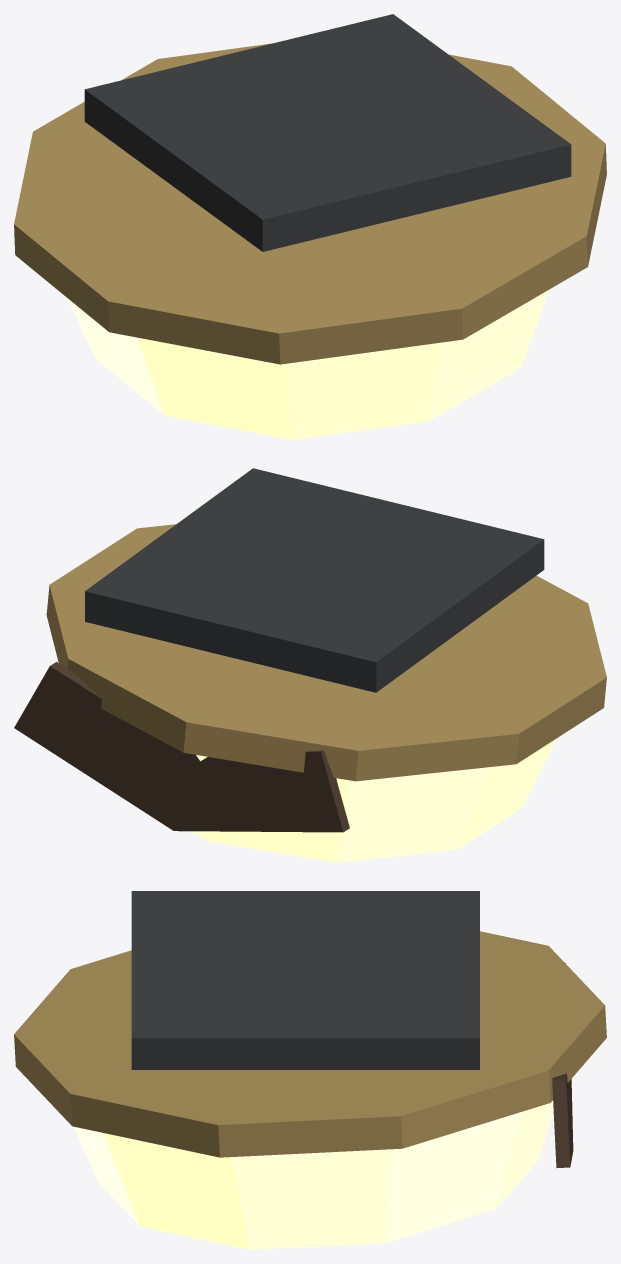
File: ceiling_lamp.glb
3 renders of one model, top to bottom at view 1: azimuth 30°, elevation 25°; view 2: azimuth 150°, elevation 25°; view 3: azimuth 270°, elevation 25°, orthographic. The views are drawn at different scales.
Visible parts, largest first — view 1: Lamp; view 2: Lamp; view 3: Lamp.
Part boxes in pixels (x1,y1,x2,y2): Lamp: [14, 14, 606, 439]; Lamp: [14, 468, 606, 862]; Lamp: [14, 891, 606, 1249].
Size of the model in its own units: 0.4865 by 0.2151 by 0.5109.
